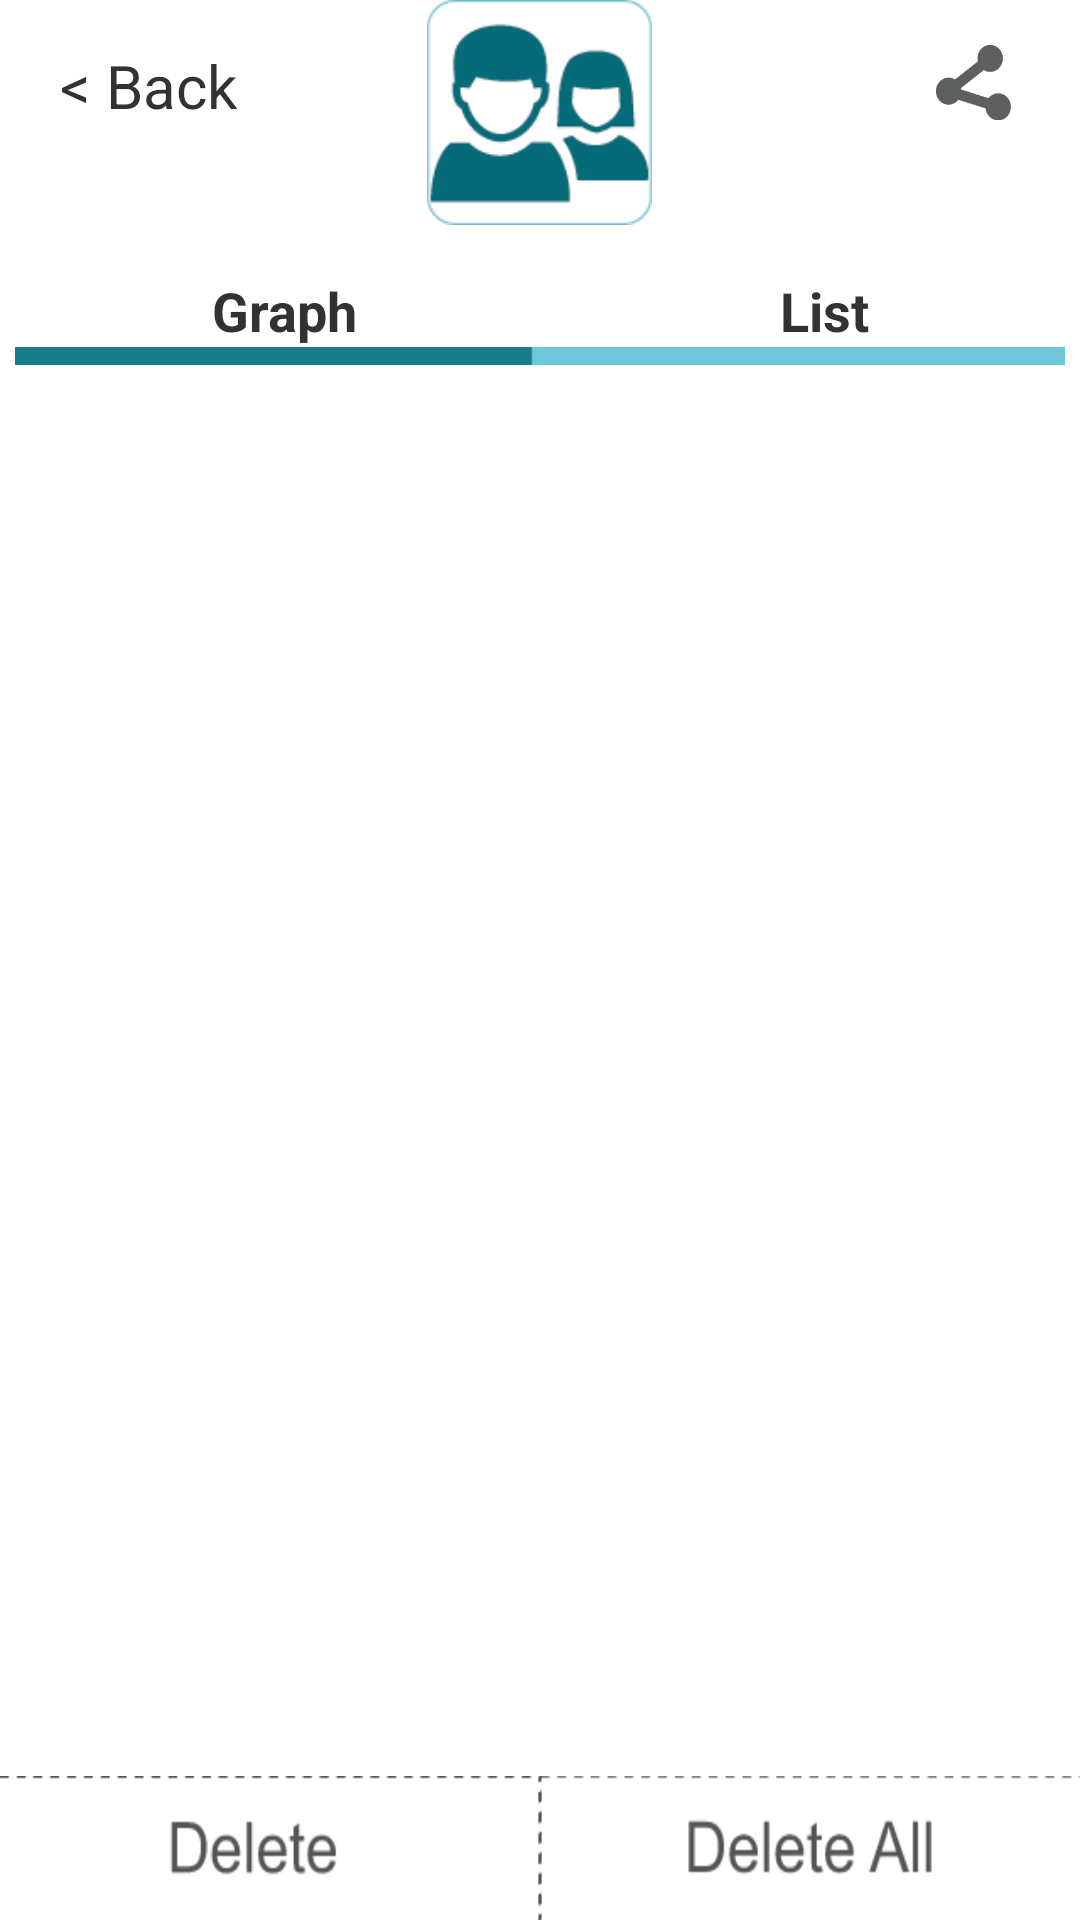

Named icons in this screenshot (1080w x 1920h) and their centers, (x=x, y=y):
shar: (x=973, y=82)
user pic: (x=539, y=112)
